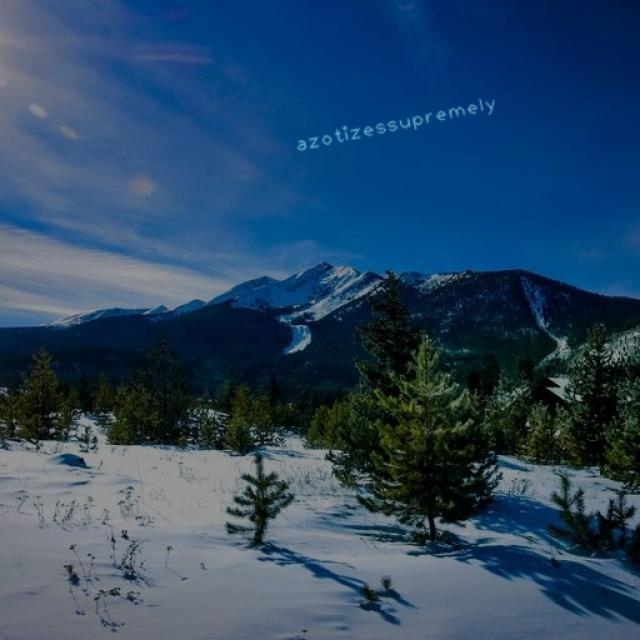watermark: (291, 93, 498, 154)
